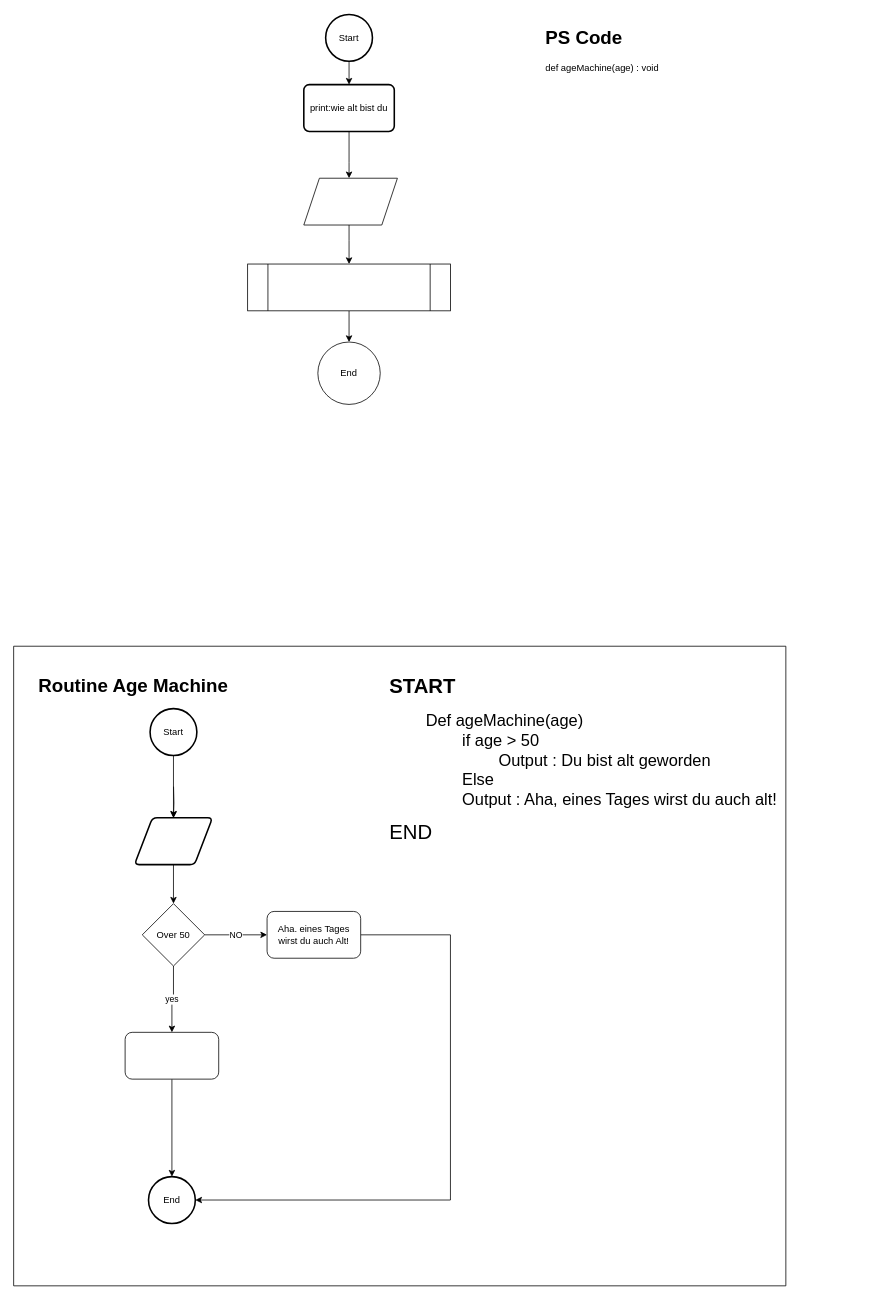
This 893x1299 diagram has some shape labels left out. The centre of each missing label's shape, as x and y in pixels:
ageMachine: (x=348, y=287)
Du bist Alt geworden: (x=171, y=1055)
i nput: (x=173, y=841)
input : age: (x=350, y=201)
